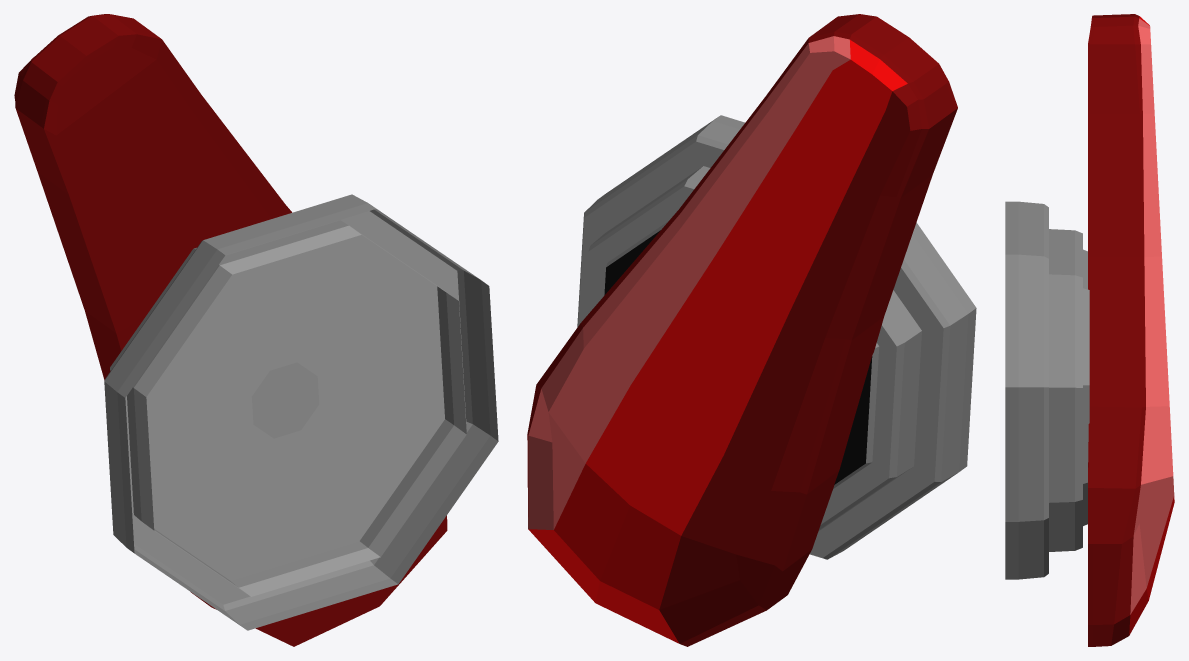
Rendered from AST_selectKnob.fbx.
The picture shows the model from 3 angles, left to right: view 1: azimuth 30°, elevation 25°; view 2: azimuth 150°, elevation 25°; view 3: azimuth 270°, elevation 25°; orthographic projection. The views are drawn at different scales.
Visible parts, largest first — view 1: knob; view 2: knob; view 3: knob.
Boxes of the visible parts, x1=… form: knob: x1=14, y1=14, x2=498, y2=646; knob: x1=527, y1=14, x2=976, y2=646; knob: x1=1005, y1=14, x2=1174, y2=646.
Bounding box in the file's own units: 10.71 × 16.5 × 4.67.
